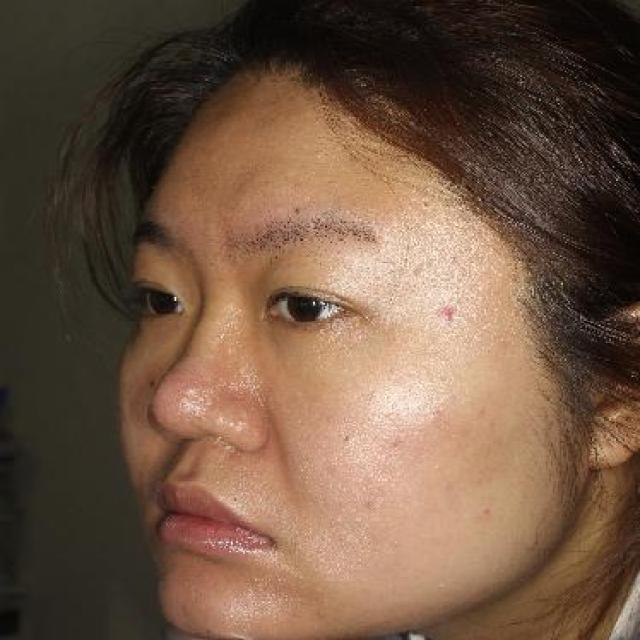acne: (433, 302, 465, 326), (382, 428, 408, 457), (286, 198, 306, 217)
